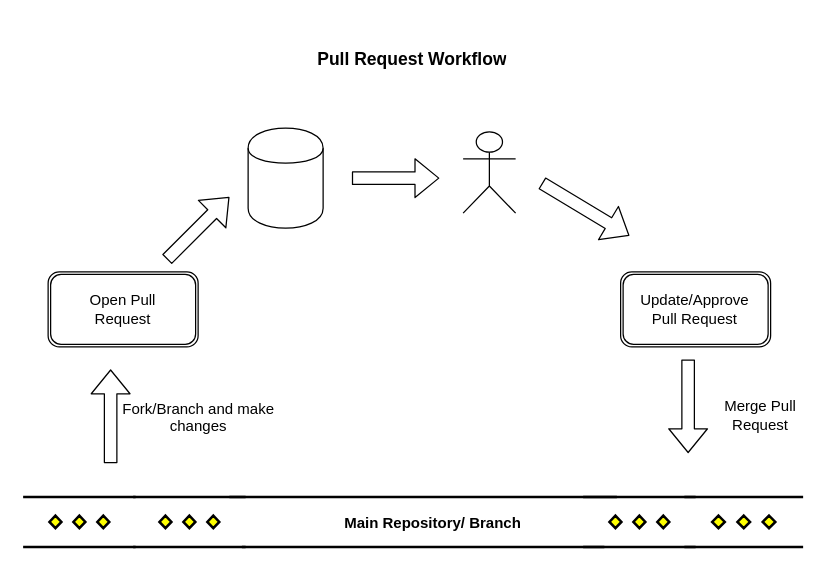
Some shapes in this 831 by 575 pixel diagram are drawn without their labels. Here are the shapes that lost their labels. From the top down, the centre of each, then its label:
[285,177]: CI Server
[489,172]: Peer Review
